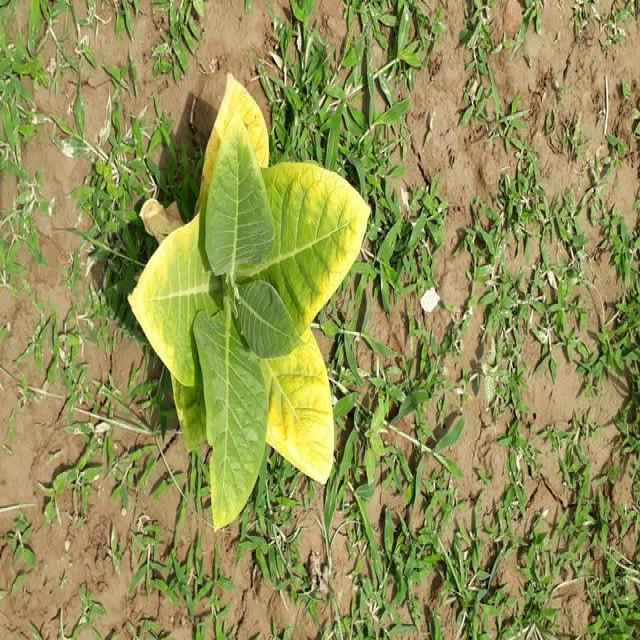crop: (126, 68, 383, 530)
